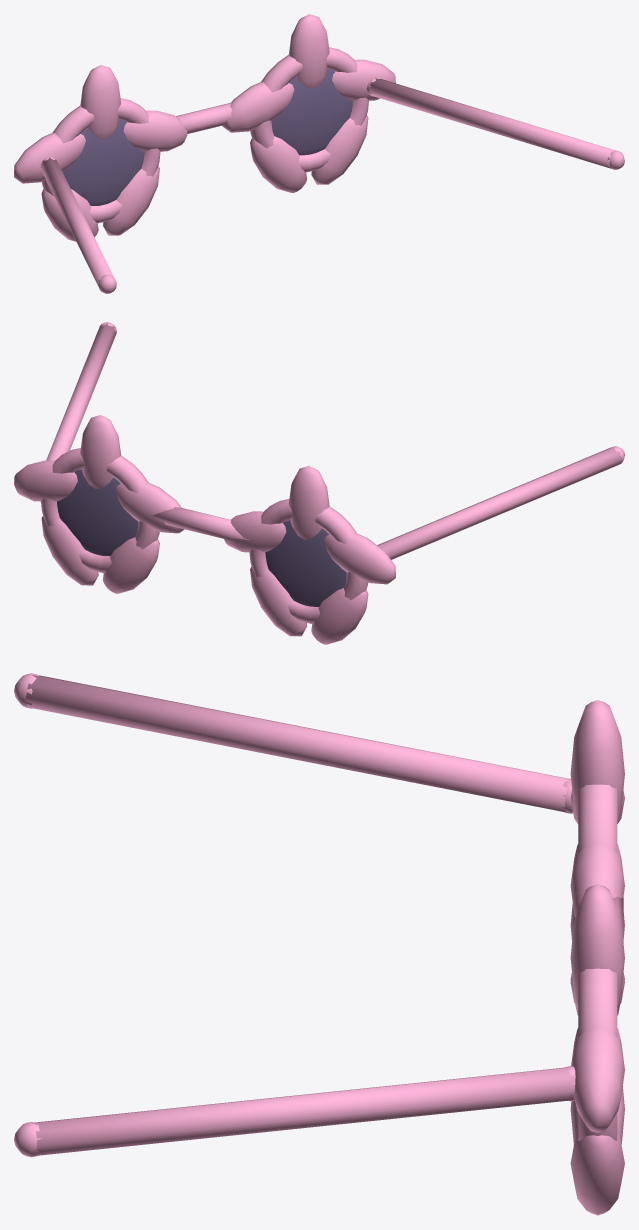
Rendered from star_sunglasses.glb.
3 renders of one model, top to bottom at view 1: azimuth 30°, elevation 25°; view 2: azimuth 150°, elevation 25°; view 3: azimuth 270°, elevation 25°, orthographic. The views are drawn at different scales.
Parts seen in each view (by area): view 1: Head; view 2: Head; view 3: Head.
Boxes of the visible parts, x1,y1,x2,y2 form: Head: (14,14,624,293); Head: (14,322,624,644); Head: (14,673,624,1215).
Size of the model in its own units: 0.806 by 0.2556 by 0.449.
